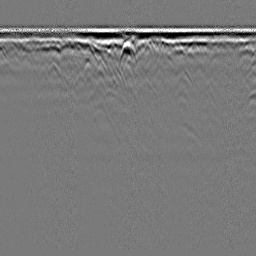cavity: (119, 38, 137, 64)
